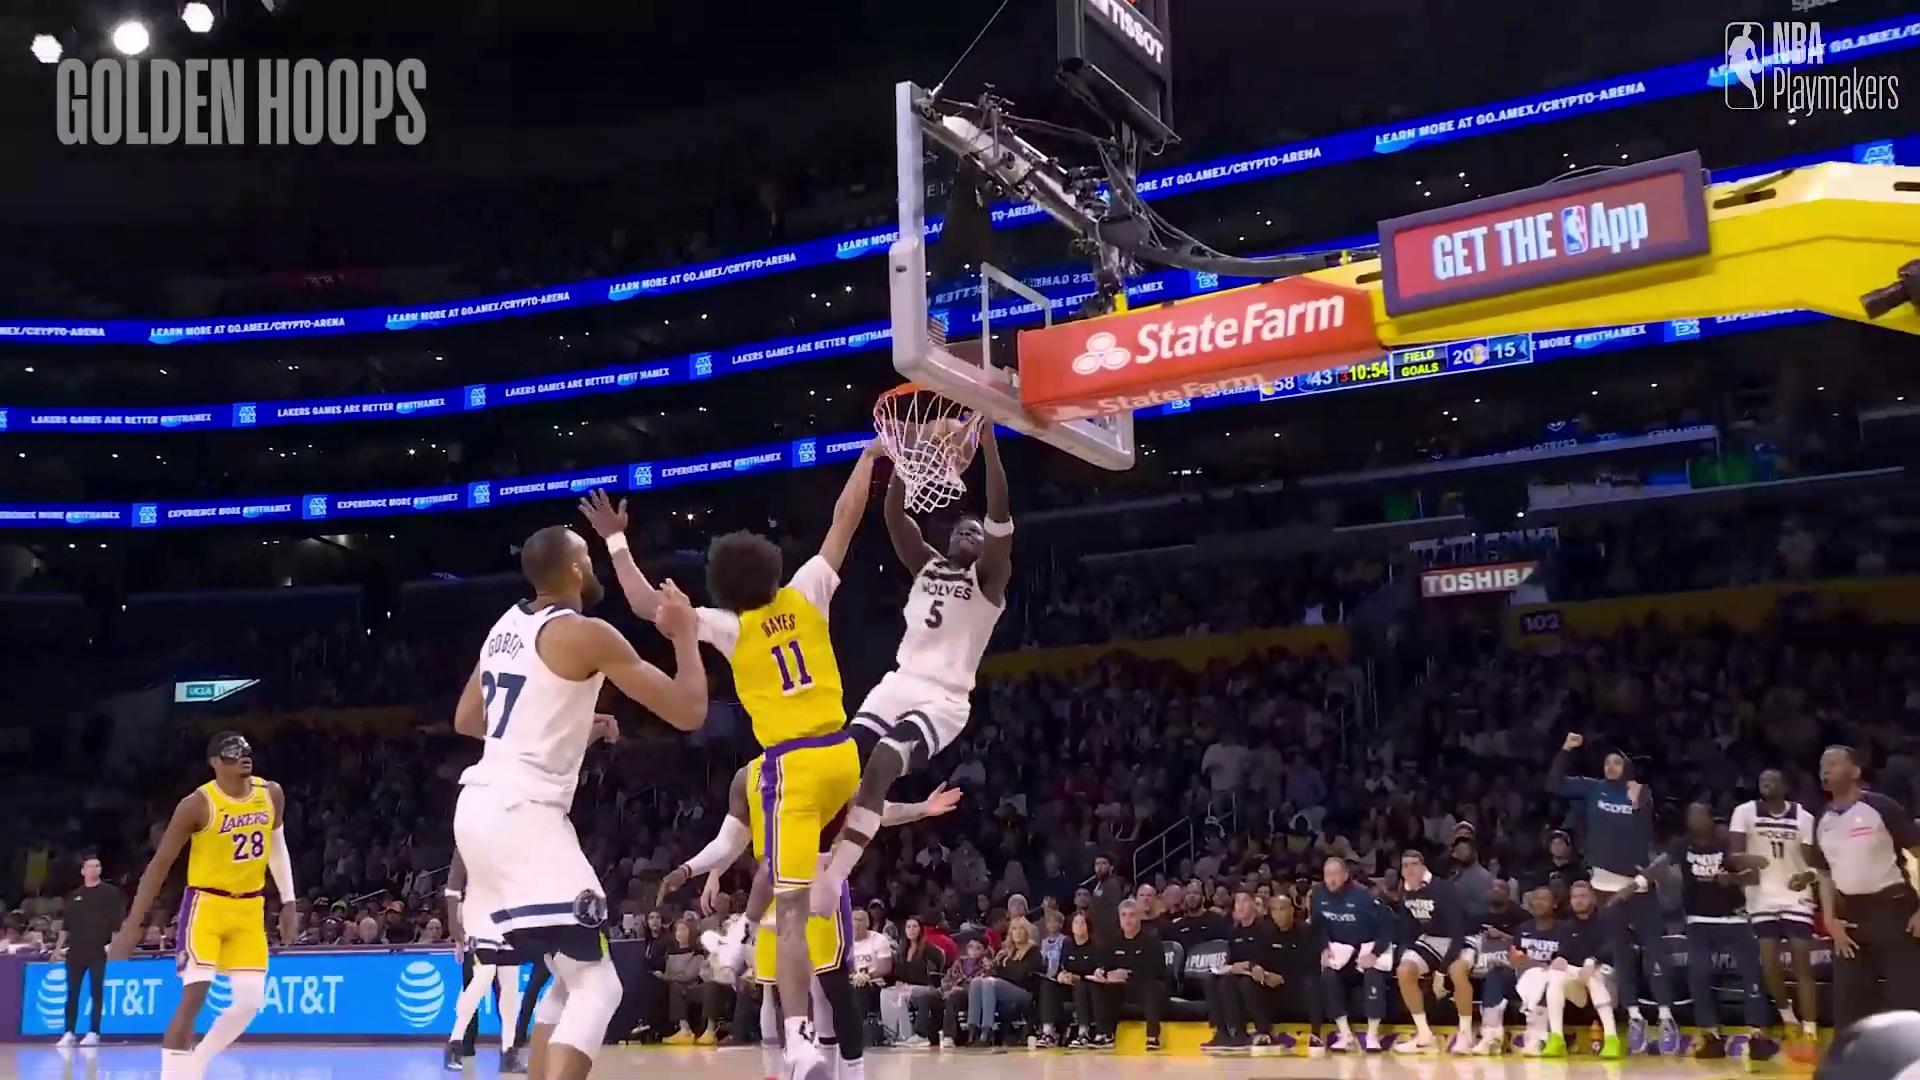hoop: (878, 382, 971, 512)
